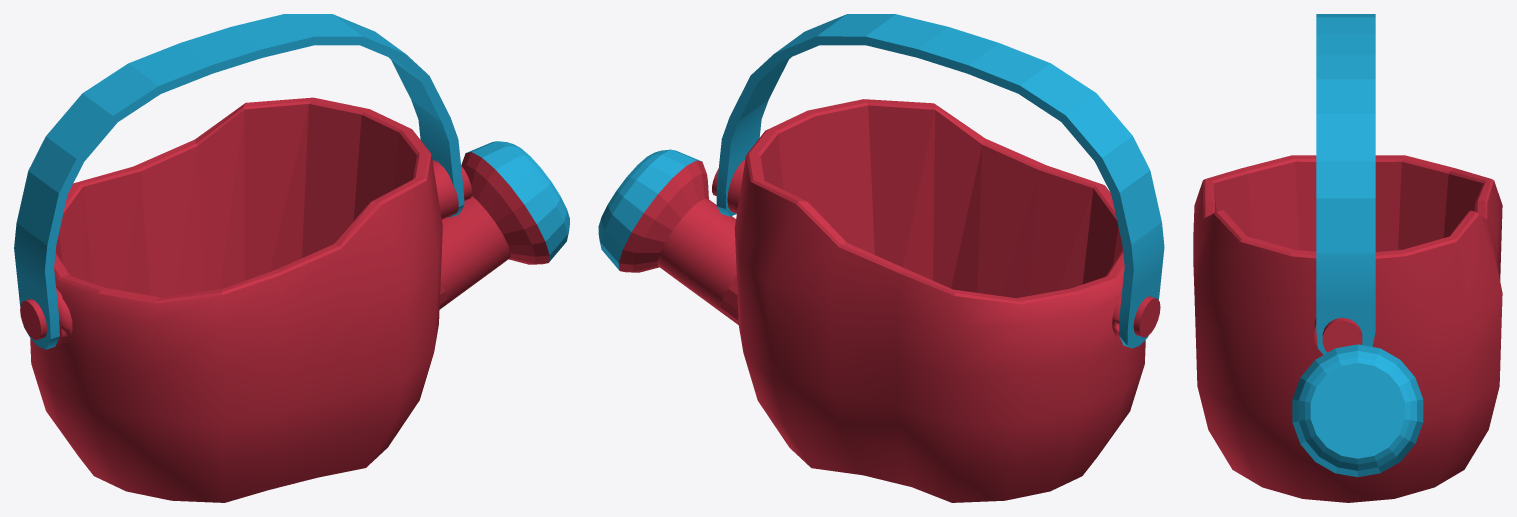
Rendered from mesh_arrosoir.fbx.
3 views of the same model, side by side, from view 1: azimuth 30°, elevation 25°; view 2: azimuth 150°, elevation 25°; view 3: azimuth 270°, elevation 25° (orthographic). The views are drawn at different scales.
Visible parts, largest first — view 1: Cylinder137; view 2: Cylinder137; view 3: Cylinder137.
Part boxes in pixels (<box>): Cylinder137: <box>14,14,569,502</box>; Cylinder137: <box>598,14,1164,502</box>; Cylinder137: <box>1193,14,1502,502</box>.
Bounding box in the file's own units: 25.92 × 18.58 × 13.45.
